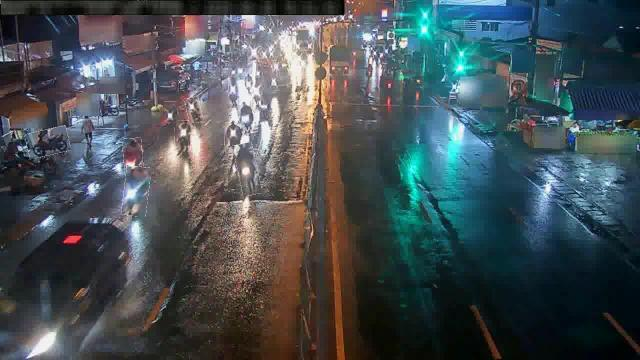Bike: (122, 166, 150, 216), (26, 127, 70, 156), (235, 144, 259, 196), (123, 138, 143, 176), (173, 120, 190, 152), (238, 101, 254, 131), (186, 97, 202, 123), (225, 122, 238, 154), (164, 102, 176, 128), (228, 78, 240, 104)
